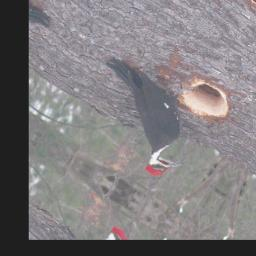Woodpecker: (71, 36, 219, 189)
